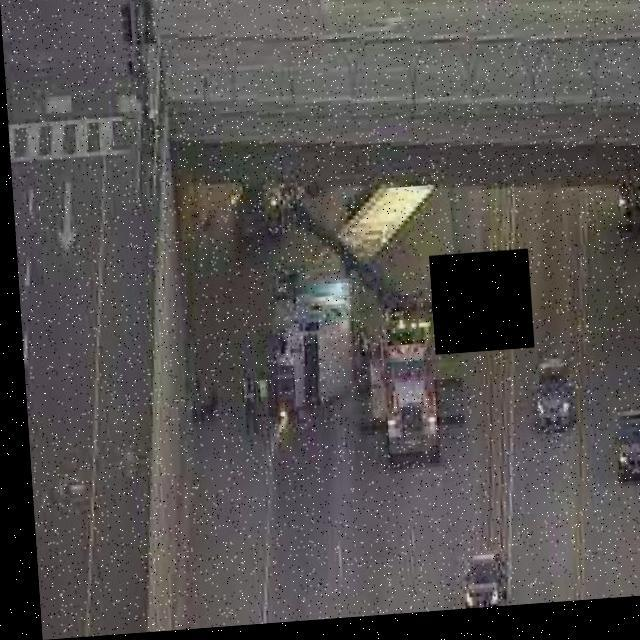multiple_accident: (267, 276, 454, 469)
normal: (527, 373, 586, 429), (459, 554, 517, 610), (613, 409, 640, 507)
